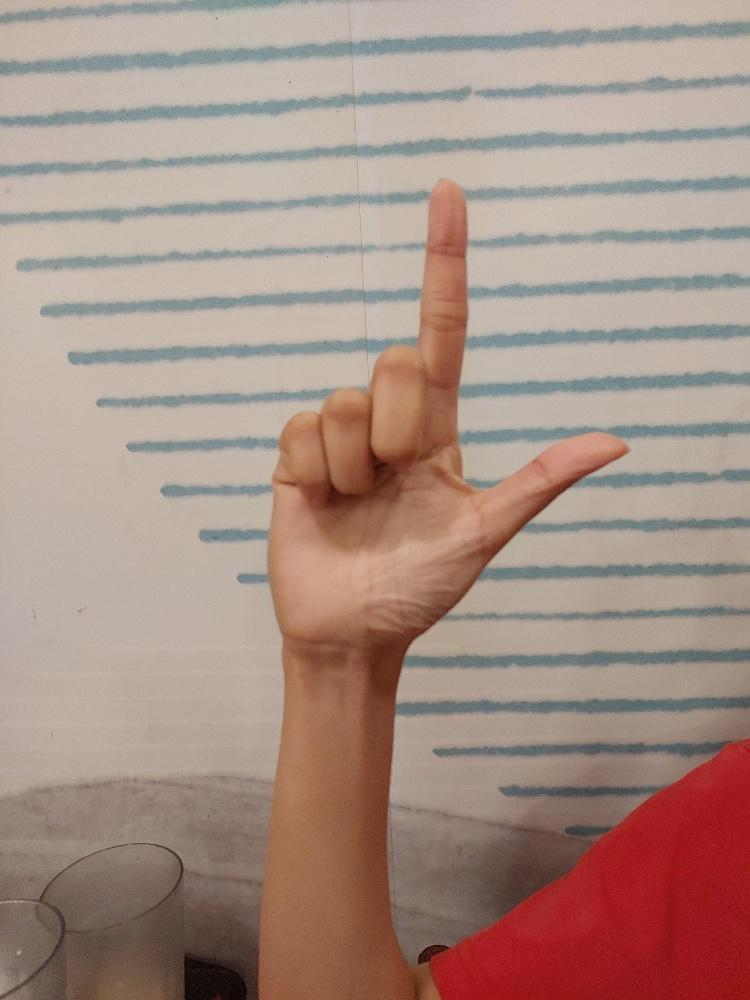l: (265, 173, 631, 655)
